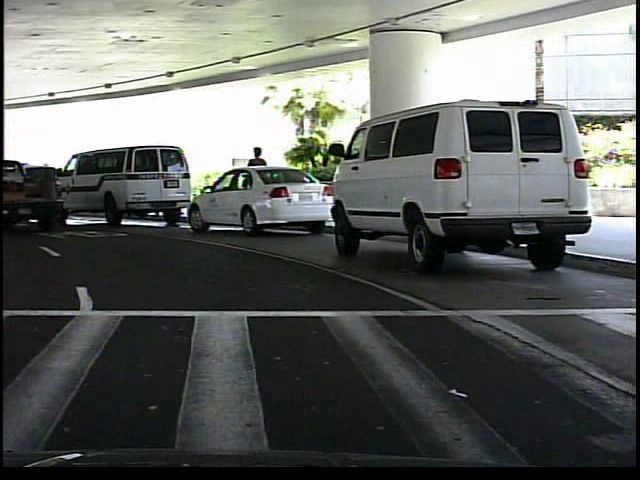person: (246, 144, 274, 220)
